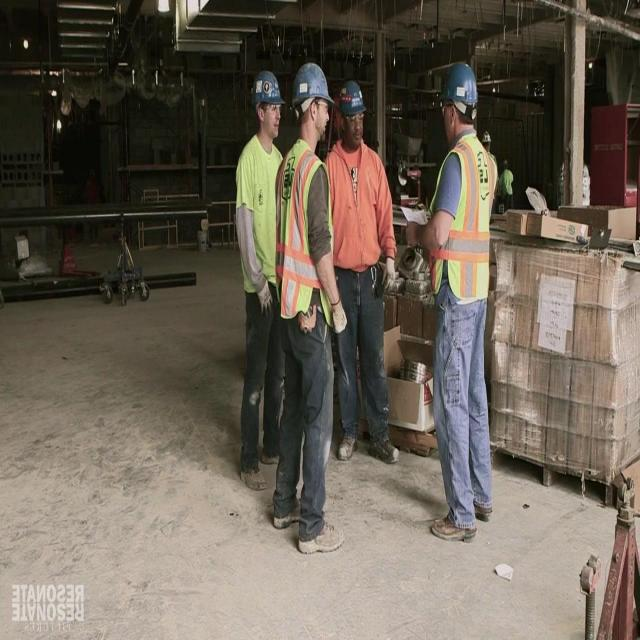Reflective-Jacket: (420, 133, 504, 315), (270, 140, 344, 336), (227, 133, 290, 324)
Safety-Helmet: (287, 53, 337, 123), (434, 52, 484, 120), (245, 58, 287, 116), (334, 71, 372, 128)
